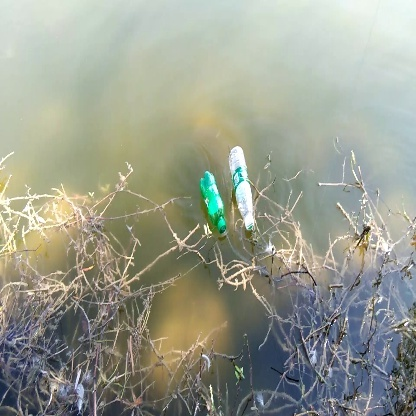bottle: (228, 146, 264, 230), (198, 169, 229, 237)
